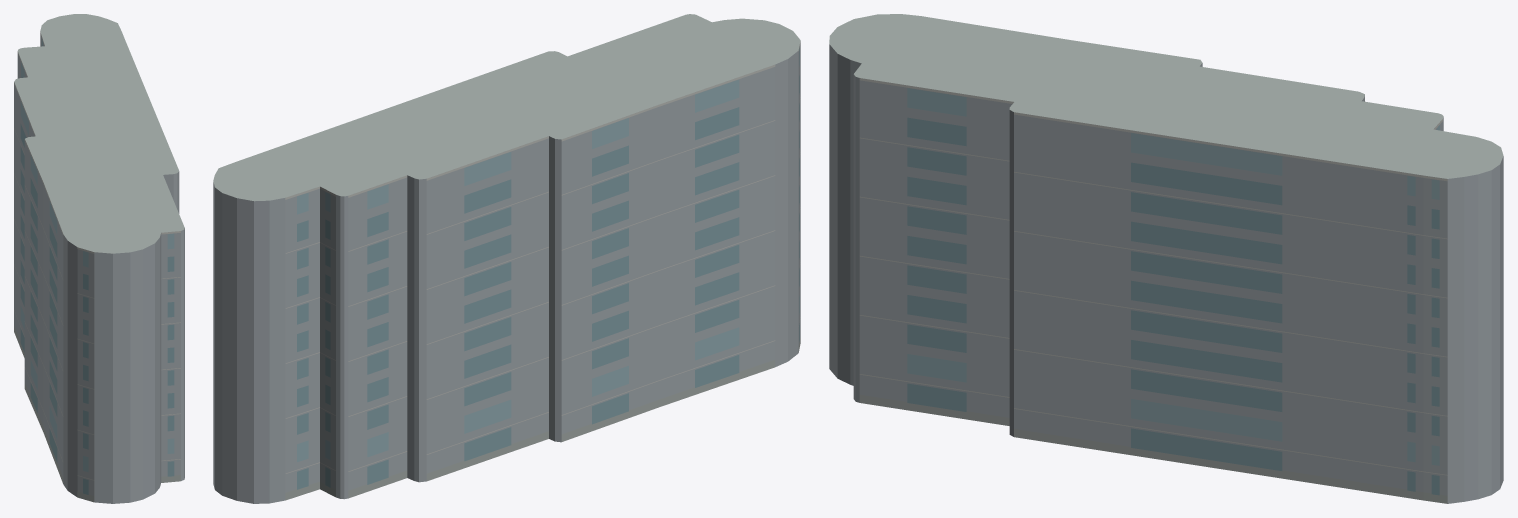
File: survey-upis-32538987.glb
3 renders of one model, left to right at view 1: azimuth 30°, elevation 25°; view 2: azimuth 150°, elevation 25°; view 3: azimuth 270°, elevation 25°, orthographic. The views are drawn at different scales.
Visible parts, largest first — view 1: survey-upis-32538987.tmp; view 2: survey-upis-32538987.tmp; view 3: survey-upis-32538987.tmp.
Boxes of the visible parts, left/top/right/bottom form: survey-upis-32538987.tmp: left=14, top=14, right=184, bottom=503; survey-upis-32538987.tmp: left=213, top=14, right=800, bottom=503; survey-upis-32538987.tmp: left=829, top=14, right=1503, bottom=503.
Size of the model in its own units: 36.55 by 33.55 by 63.08.
